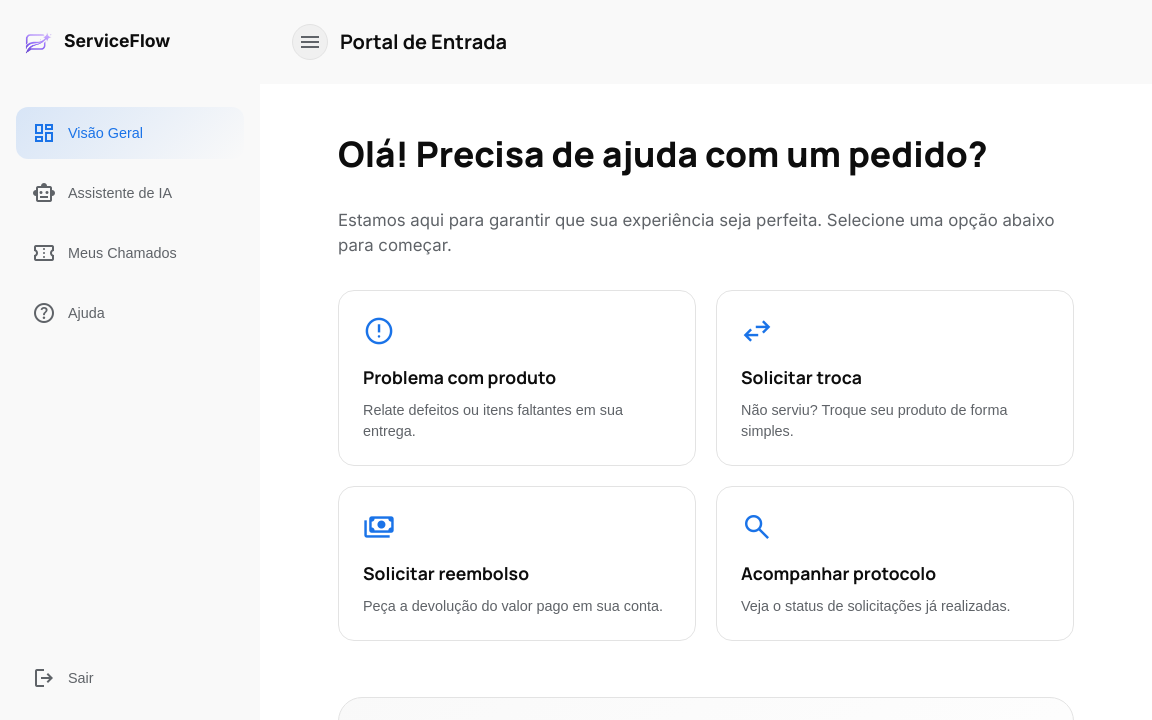
Test: ChatPage › Navegação de Abas › deve alternar para a aba de chat ao clicar em "Assistente de IA"
# Clica no item da sidebar (pode haver duplicata na bottom nav)
Click the button "Assistente de IA" at [130, 193], box [16,167,244,219]
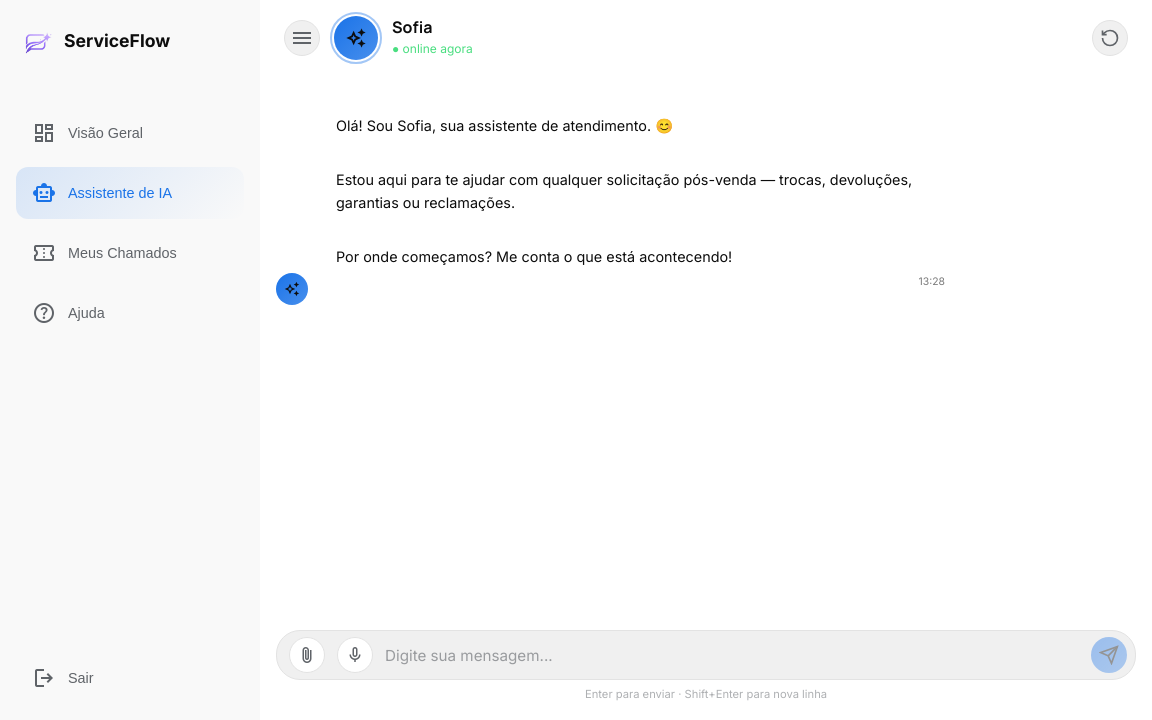
expect the heading "Sofia" is shown: met, box [392,16,432,38]
